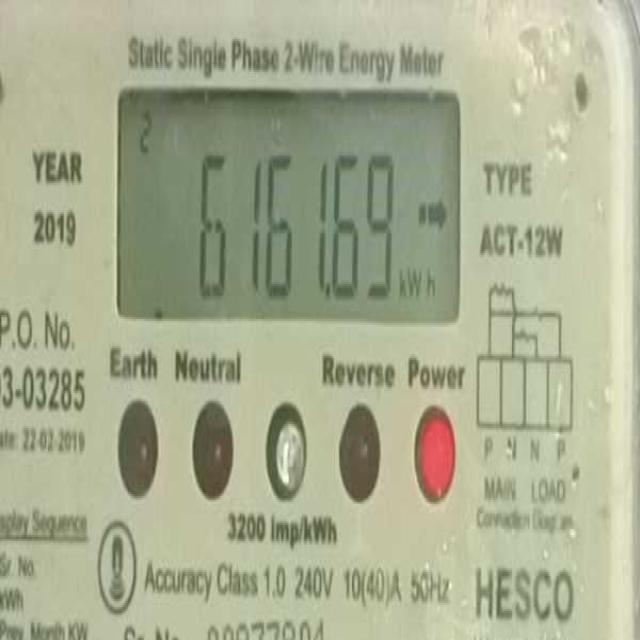1: (251, 154, 262, 298), (319, 152, 329, 298)
6: (194, 141, 234, 303), (266, 148, 295, 309), (334, 151, 360, 306)
9: (365, 151, 397, 302)
Digital meter: (118, 86, 459, 324)
point: (324, 279, 334, 307)
